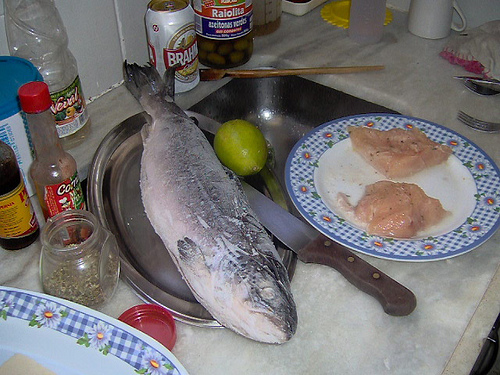fish: (121, 54, 300, 347)
